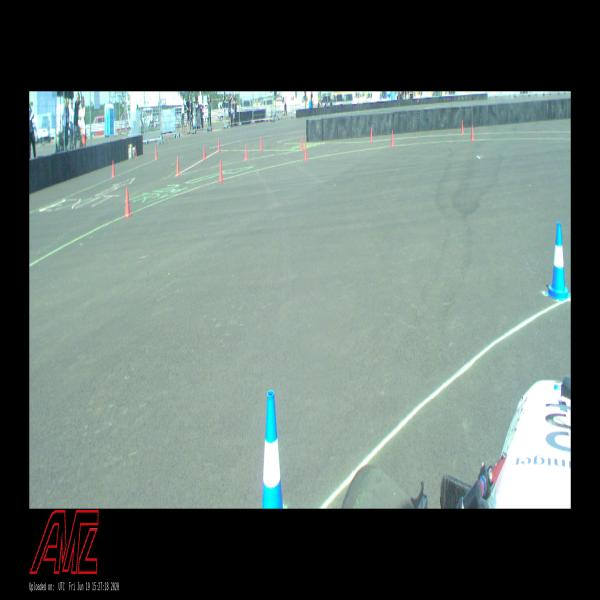blue_cone: (260, 391, 288, 508), (545, 221, 571, 301)
unknown_cone: (123, 186, 132, 219), (218, 158, 224, 182), (175, 157, 181, 176), (303, 141, 308, 161), (390, 130, 395, 147), (470, 124, 475, 141), (244, 143, 248, 161), (300, 134, 304, 152), (111, 160, 115, 177), (202, 144, 206, 161), (217, 138, 221, 152), (369, 128, 373, 142), (154, 146, 158, 159), (461, 120, 464, 134), (260, 137, 262, 151)
